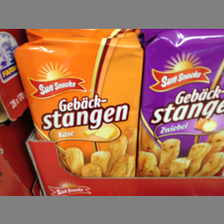chips: (14, 38, 140, 177), (139, 33, 224, 178)
